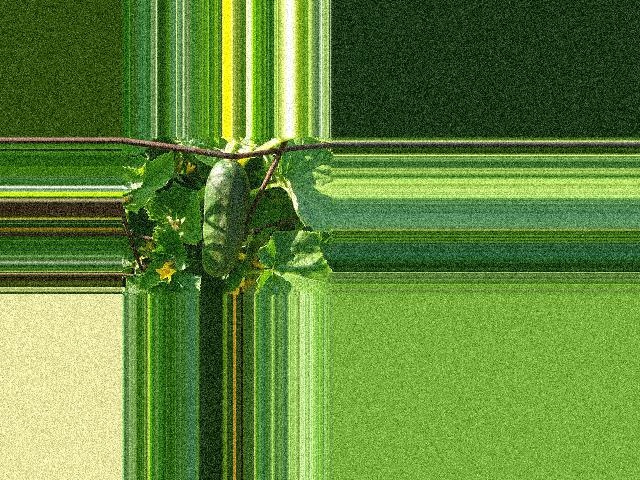cucumber: (202, 159, 251, 277)
